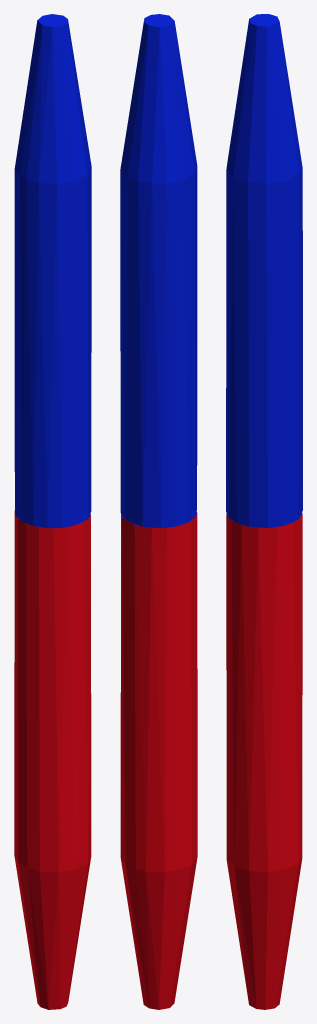
Rendered from VectorRod.fbx.
3 renders of one model, left to right at view 1: azimuth 30°, elevation 25°; view 2: azimuth 210°, elevation 25°; view 3: azimuth 330°, elevation 25°, orthographic.
Visible parts, largest first — view 1: Cylinder.001; view 2: Cylinder.001; view 3: Cylinder.001.
Part boxes in pixels (left/top/right/bottom): Cylinder.001: left=14, top=14, right=91, bottom=1009; Cylinder.001: left=120, top=14, right=197, bottom=1009; Cylinder.001: left=226, top=14, right=302, bottom=1009.
Bounding box in the file's own units: 70.96 × 1000 × 70.58.
